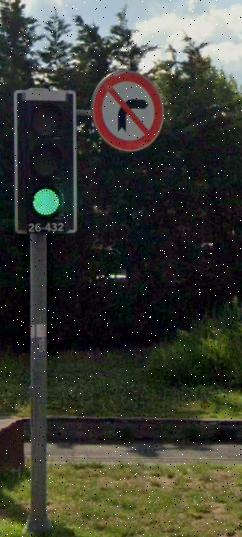greenlight: (15, 93, 75, 230)
rightturnsareforbidden: (98, 78, 162, 148)
